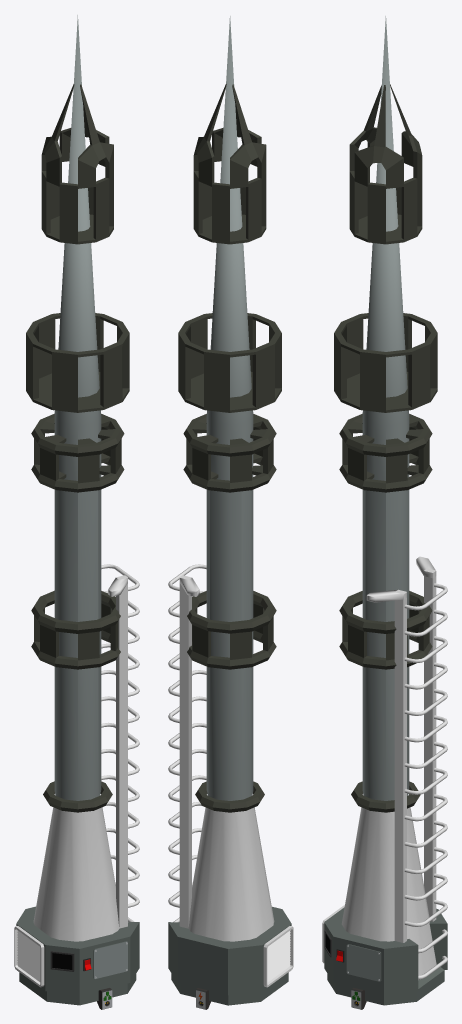
File: BuildState2.fbx
The picture shows the model from 3 angles, left to right: view 1: azimuth 30°, elevation 25°; view 2: azimuth 150°, elevation 25°; view 3: azimuth 330°, elevation 25°; orthographic projection.
Parts seen in each view (by area): view 1: BuildState2MainBody, BuildState2Ladder, BuildState2Vent, BuildState2Panel; view 2: BuildState2MainBody, BuildState2Ladder, BuildState2Vent; view 3: BuildState2MainBody, BuildState2Ladder, BuildState2Panel.
Part boxes in pixels (x1,y1,x2,y2): BuildState2MainBody: (16,15,139,1005); BuildState2Ladder: (101,564,139,928); BuildState2Vent: (14,926,44,987); BuildState2Panel: (93,941,127,978); BuildState2MainBody: (168,16,291,1005); BuildState2Ladder: (168,564,206,928); BuildState2Vent: (263,926,293,987); BuildState2MainBody: (324,16,447,1005); BuildState2Ladder: (366,556,447,979); BuildState2Panel: (346,944,381,981).
Bounding box in the file's own units: 99.44 × 921 × 102.
